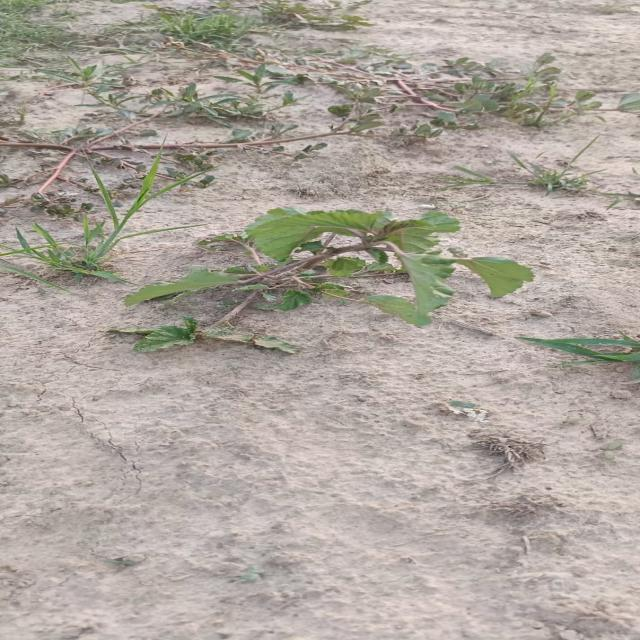plant: (112, 207, 532, 352)
